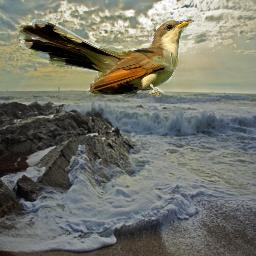Cuckoo: (19, 19, 194, 97)
